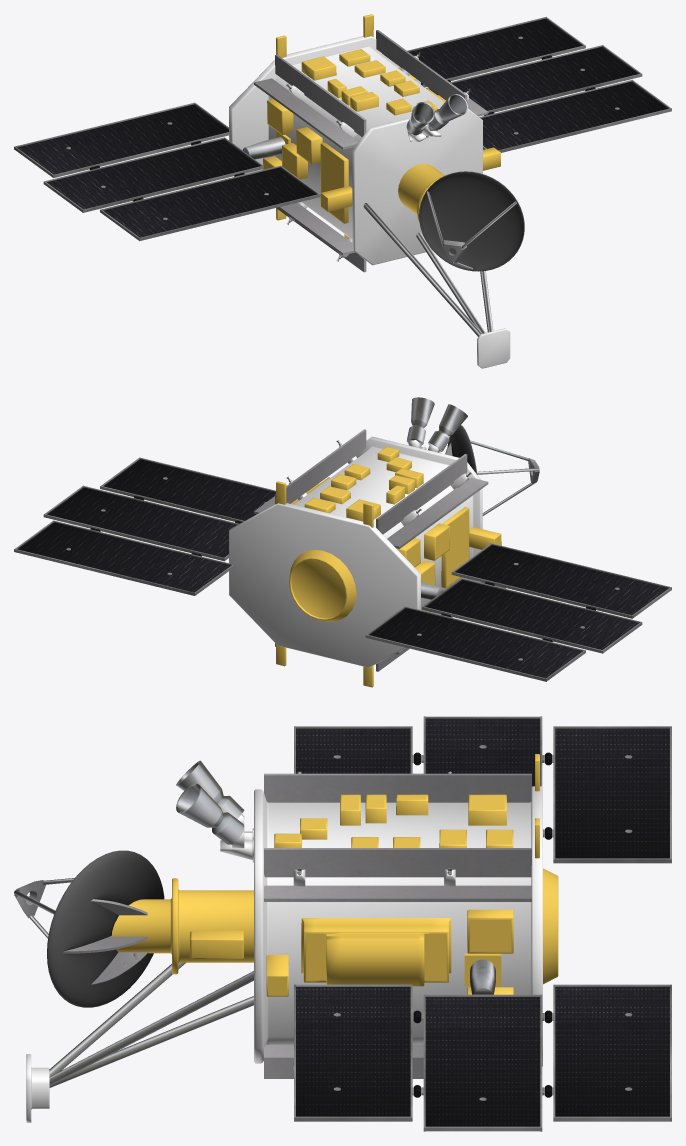
The model's file is QuikSCAT.glb.
The picture shows the model from 3 angles, top to bottom: view 1: azimuth 30°, elevation 25°; view 2: azimuth 150°, elevation 25°; view 3: azimuth 270°, elevation 25°; orthographic projection. The views are drawn at different scales.
Visible parts, largest first — view 1: shiny_panel, BUS, Tex_01, foil_gold, Dish; view 2: shiny_panel, BUS, Tex_01, foil_gold, Dish; view 3: shiny_panel, Tex_01, foil_gold, BUS, Dish.
Boxes of the visible parts, x1,y1,x2,y2 form: shiny_panel: (17, 18, 668, 237); BUS: (229, 36, 510, 368); Tex_01: (14, 16, 671, 336); foil_gold: (263, 14, 500, 238); Dish: (419, 171, 524, 271); shiny_panel: (17, 459, 668, 678); BUS: (229, 436, 505, 667); Tex_01: (14, 397, 671, 681); foil_gold: (276, 446, 501, 687); Dish: (447, 425, 477, 474); shiny_panel: (296, 718, 669, 1126); Tex_01: (14, 716, 671, 1131); foil_gold: (111, 754, 558, 996); BUS: (26, 786, 542, 1122); Dish: (47, 850, 164, 1007).
Bounding box in the file's own units: 3.8 × 1.46 × 2.57.
5 materials, 3 textured.
